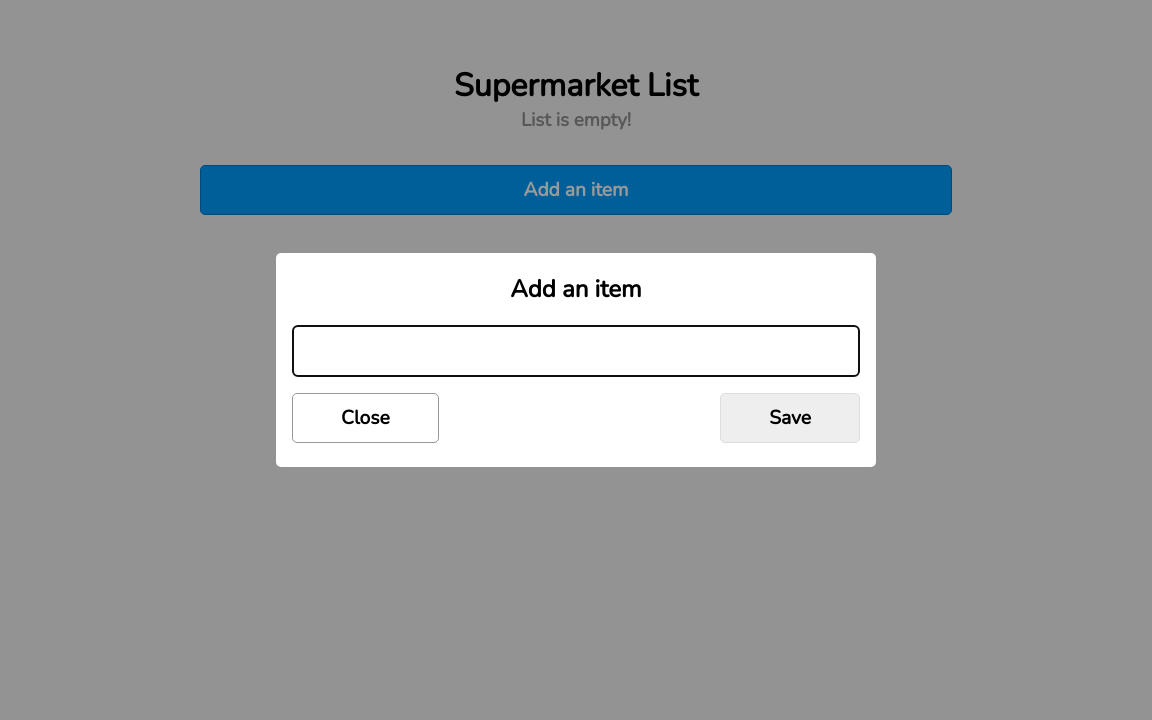
Test: Test items › Adds item
Type "This is a test" into the field with test id "add-input". click: (576, 351)
box: 292,325 -> 860,377
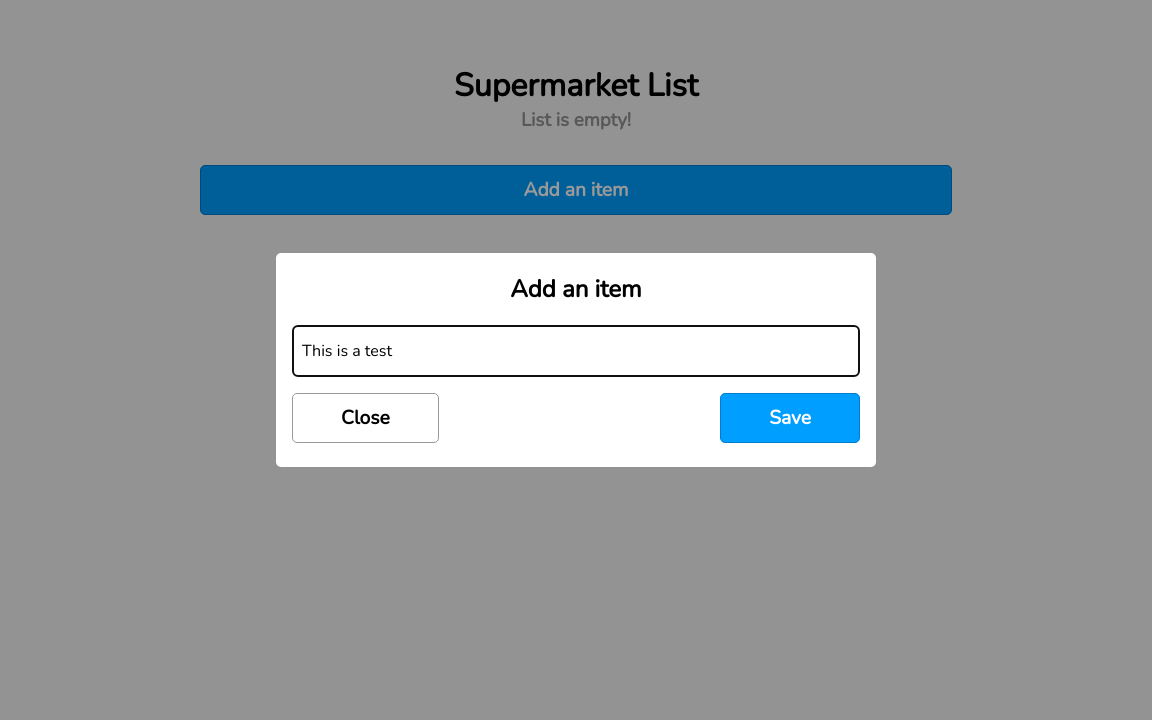
Click the button with test id "save-item-button". click: (790, 418)
box: 720,393 -> 860,443
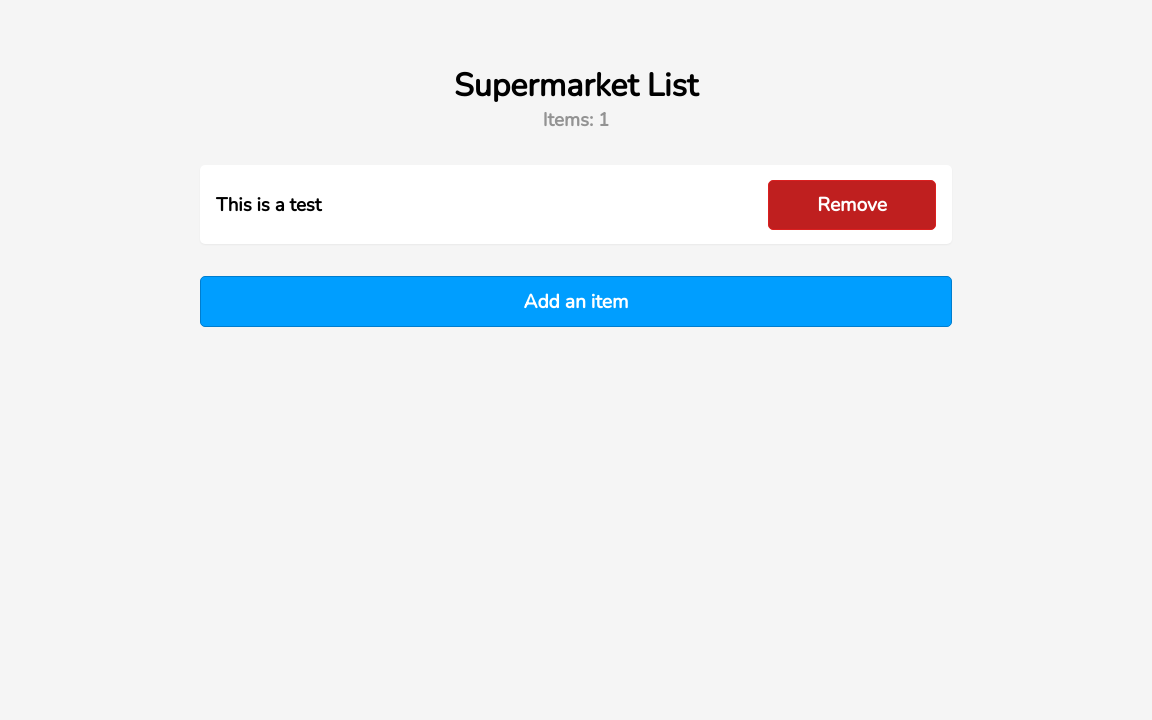
Expected: the heading "Items: 1" is shown, 543,107 -> 609,133
Now the heading with test id "count" reads "Items: 1", box 543,107 -> 610,133
Now the heading with class "cartlist__item__descriptor" reads "This is a test", box 216,192 -> 321,218
